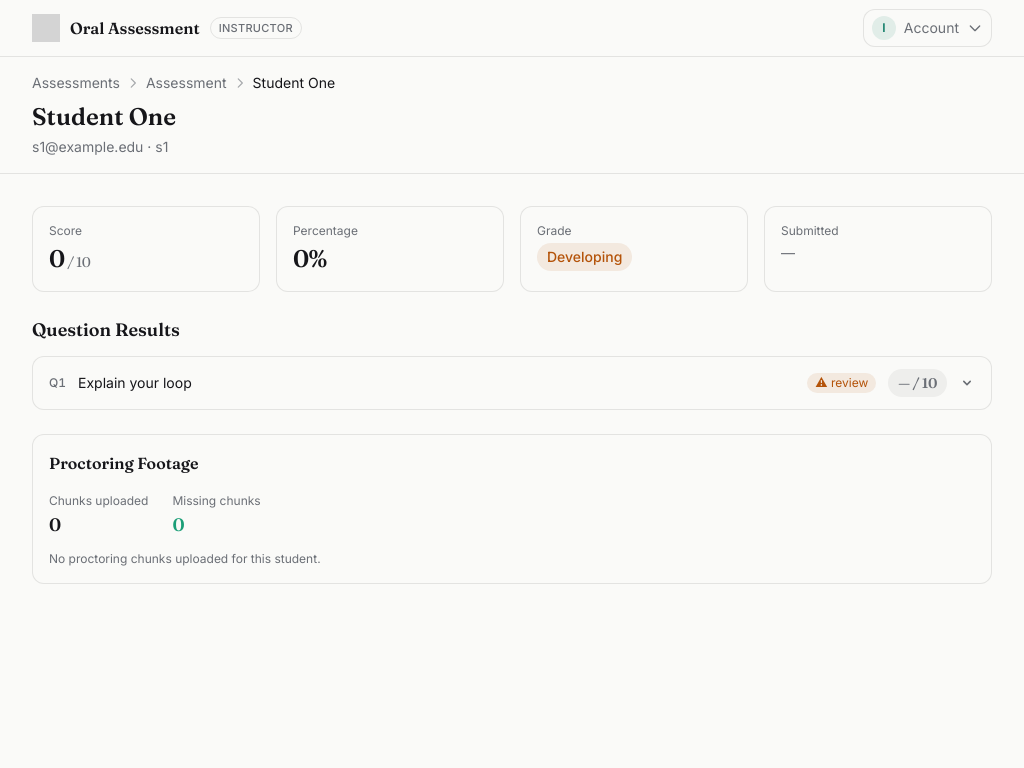
Test: StudentResultDetail › shows a question awaiting review as flagged and ungraded, with the reason
The width and height of the screenshot is (1024, 768).
Expected: the text "⚠ review" is shown, top-left (807, 373), bottom-right (876, 393)
Expected: the text "— / 10" is shown, top-left (888, 369), bottom-right (947, 397)
Click the button "Q1 Explain your loop ⚠ review — / 10" at (135, 382), box top-left (33, 357), bottom-right (991, 409)
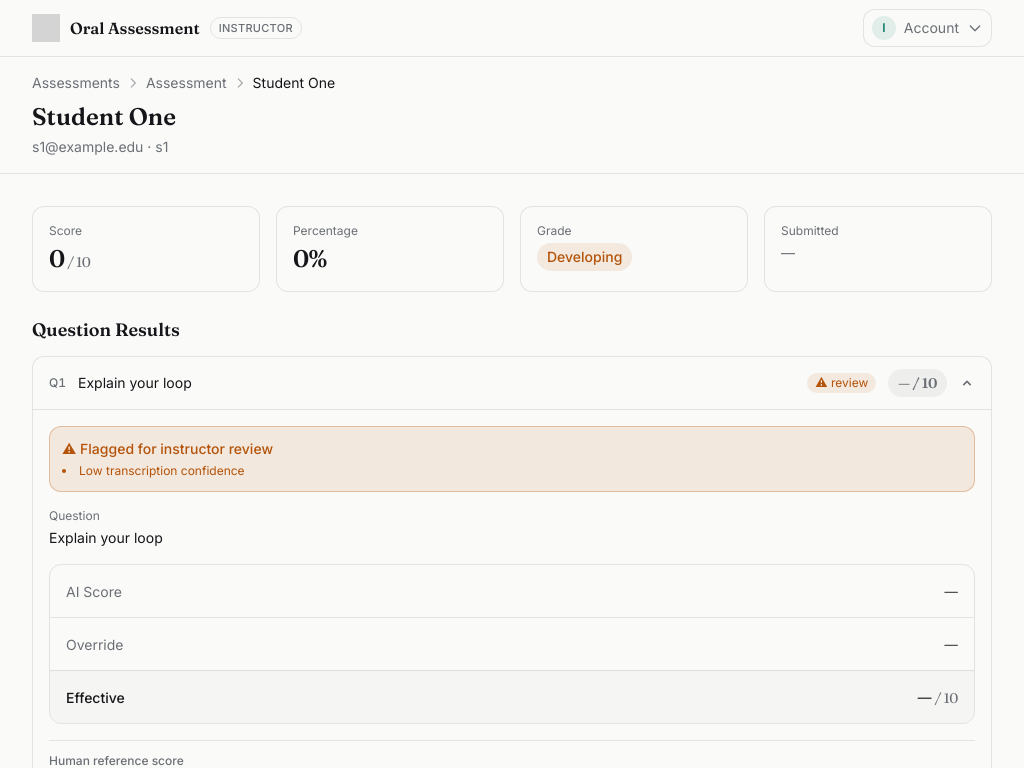
Now the text "⚠ Flagged for instructor review" is shown, box top-left (62, 440), bottom-right (273, 457)
Now the list item "Low transcription confidence" is shown, box top-left (79, 463), bottom-right (245, 478)
